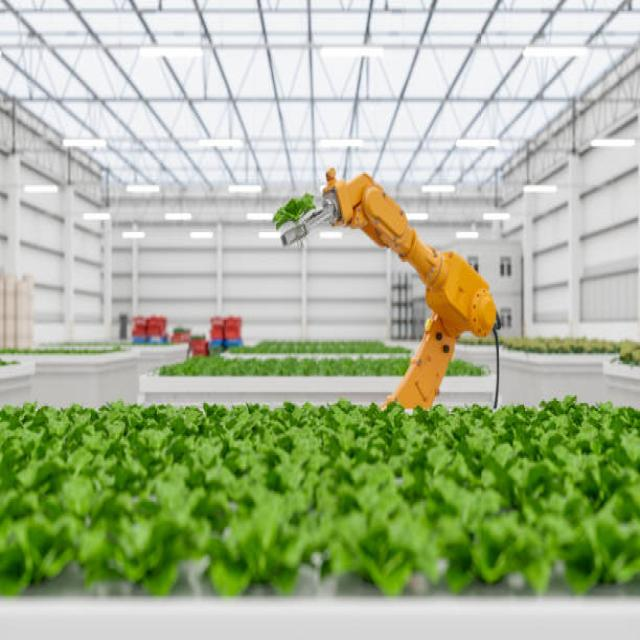Robotic-arm: (268, 158, 510, 412)
